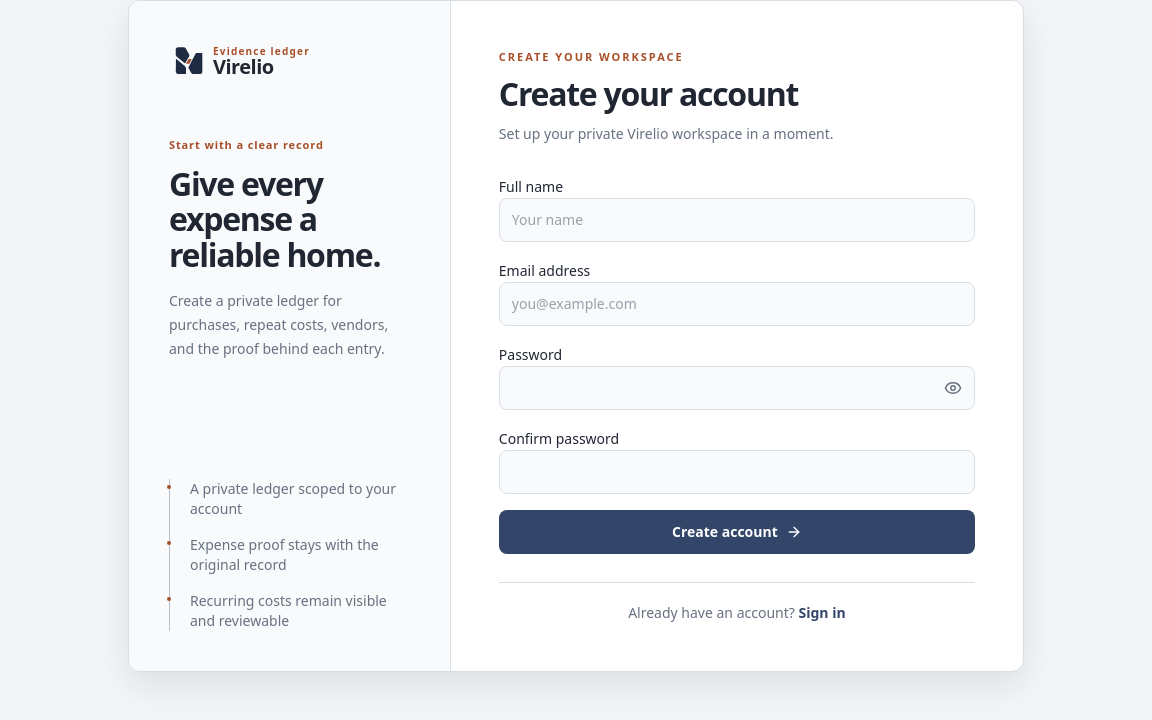
it: registration workflow › registers an account and shows email verification guidance
Type "Local Owner" into the field with id "register-full-name" at (737, 220), box [499,198,975,242]
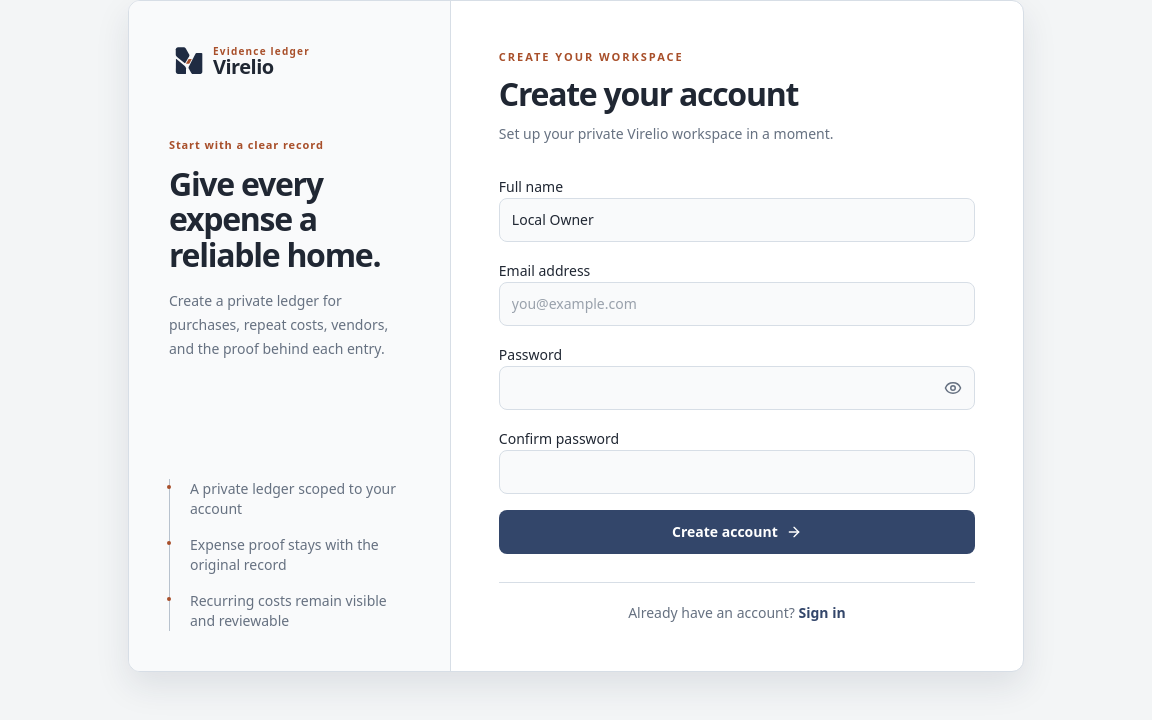
Type "owner@example.test" into the field with id "register-email" at (737, 304), box [499,282,975,326]
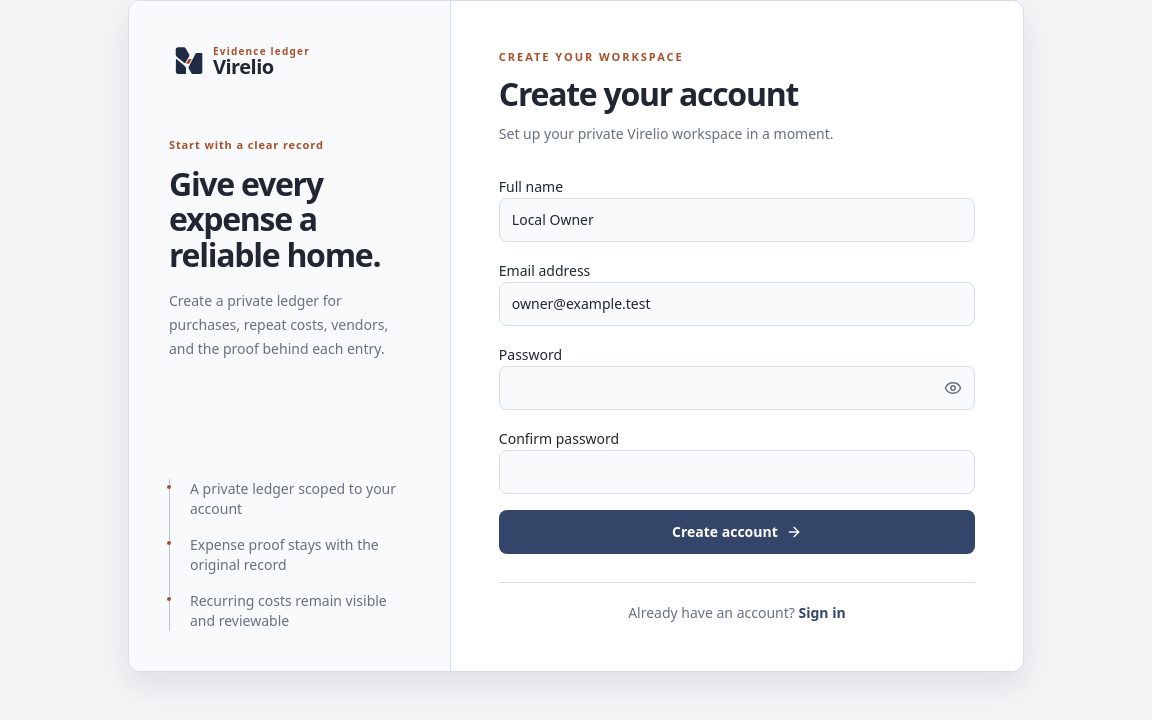
Type "test-password" into the password field with id "register-password" at (737, 388), box [499,366,975,410]
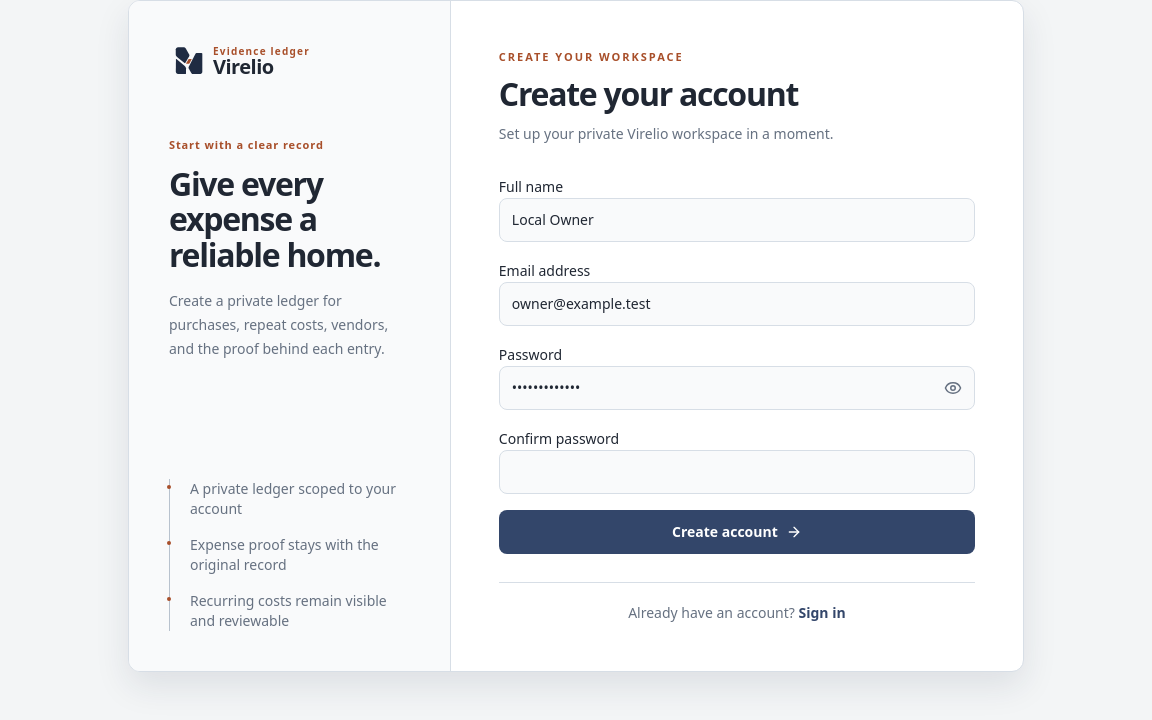
Type "test-password" into the password field with id "register-password-confirmation" at (737, 472), box [499,450,975,494]
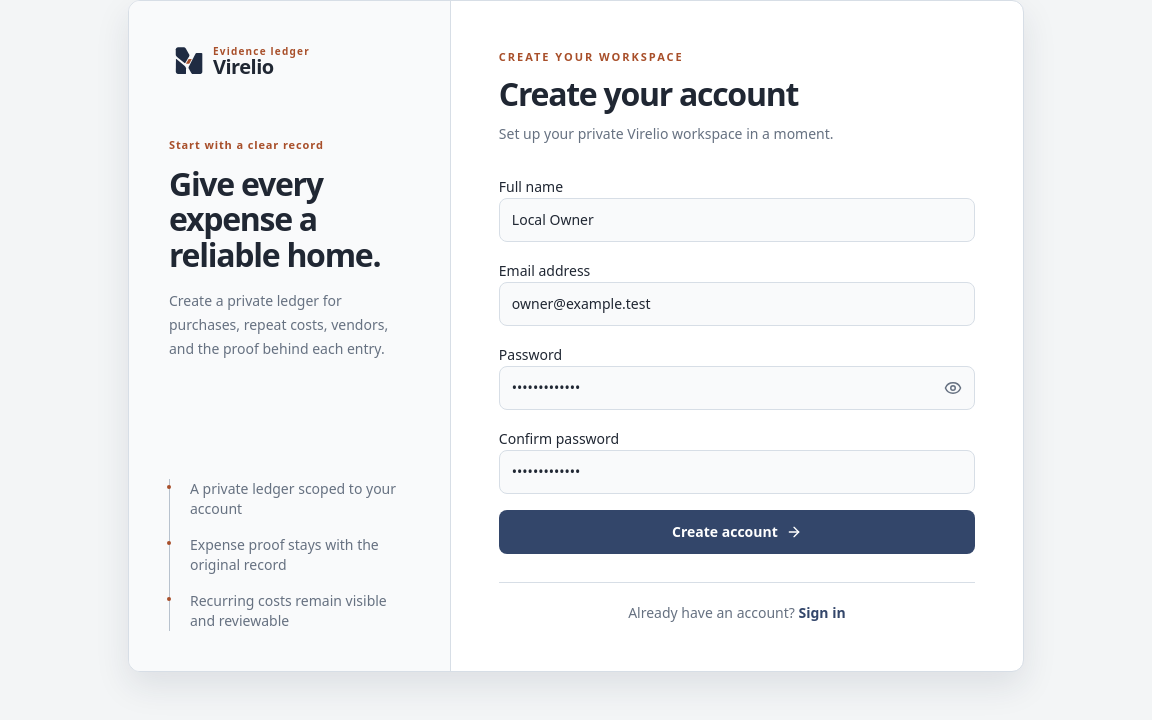
Submit the form, box [499,174,975,554]
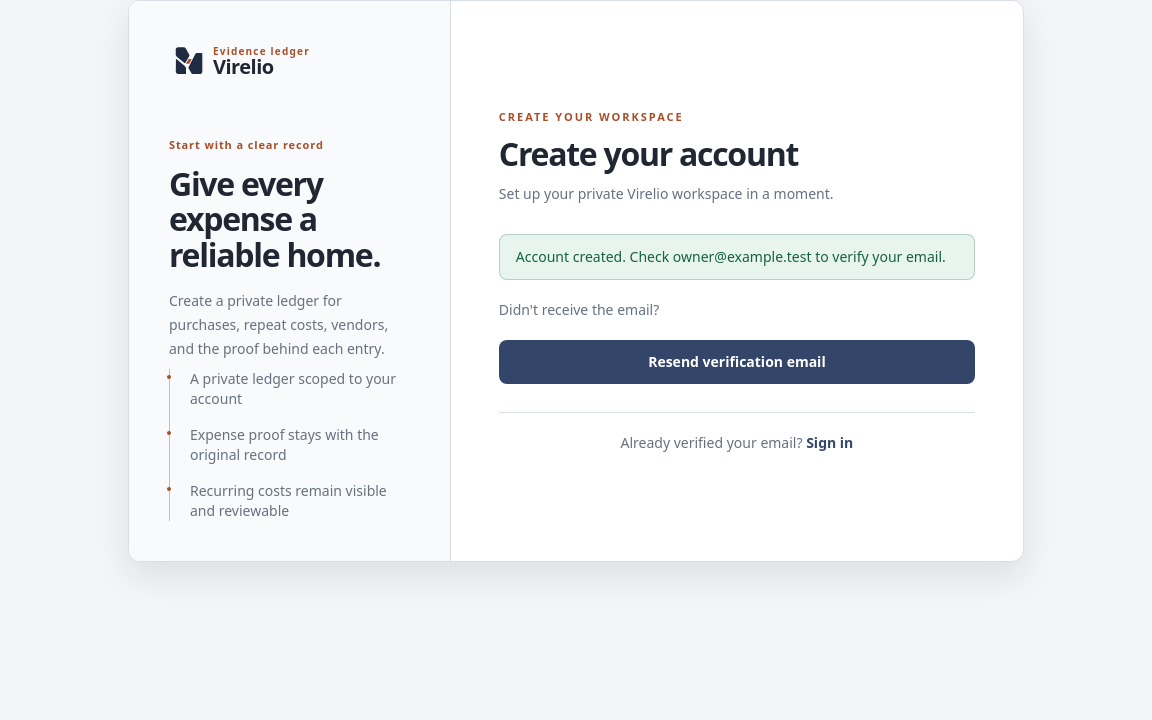
Result: the text "Account created. Check owner@example.test to verify your email." is shown at [499,234,975,280]
Result: the button "Resend verification email" is shown at [499,340,975,384]
